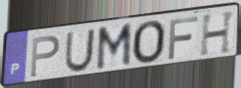F: (167, 15, 200, 61)
H: (199, 9, 237, 59)
M: (94, 21, 134, 73)
O: (131, 19, 168, 66)
P: (28, 34, 61, 80)
U: (63, 27, 98, 74)
